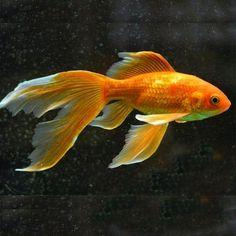goldfish: (42, 60, 232, 135)
